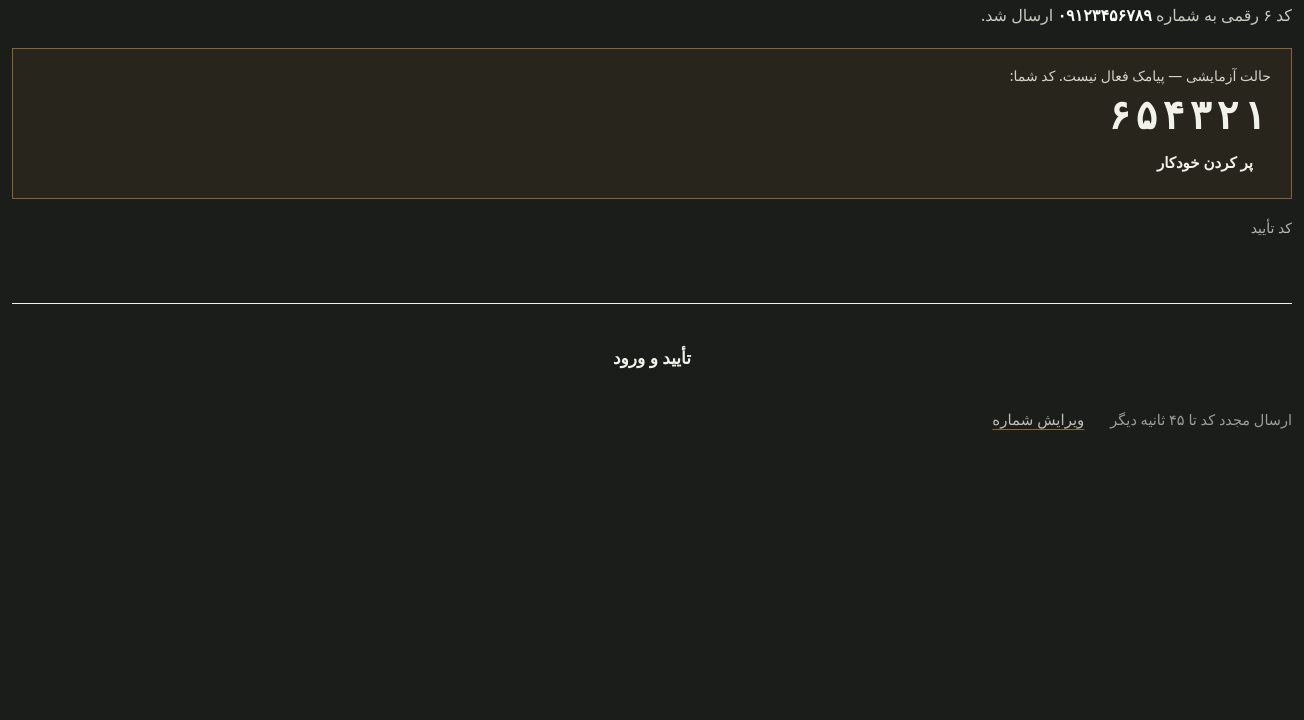
Test: OtpVerify › RTL — the digits of the code input stay LTR inside the box
This screenshot has width=1304, height=720.
Persian/Arabic digits typed into it are normalized to plain ASCII digits.
Type "۱۲۴۵۶۳" into the field named "کد تأیید ۶ رقمی" at (652,274), box [12,244,1292,304]
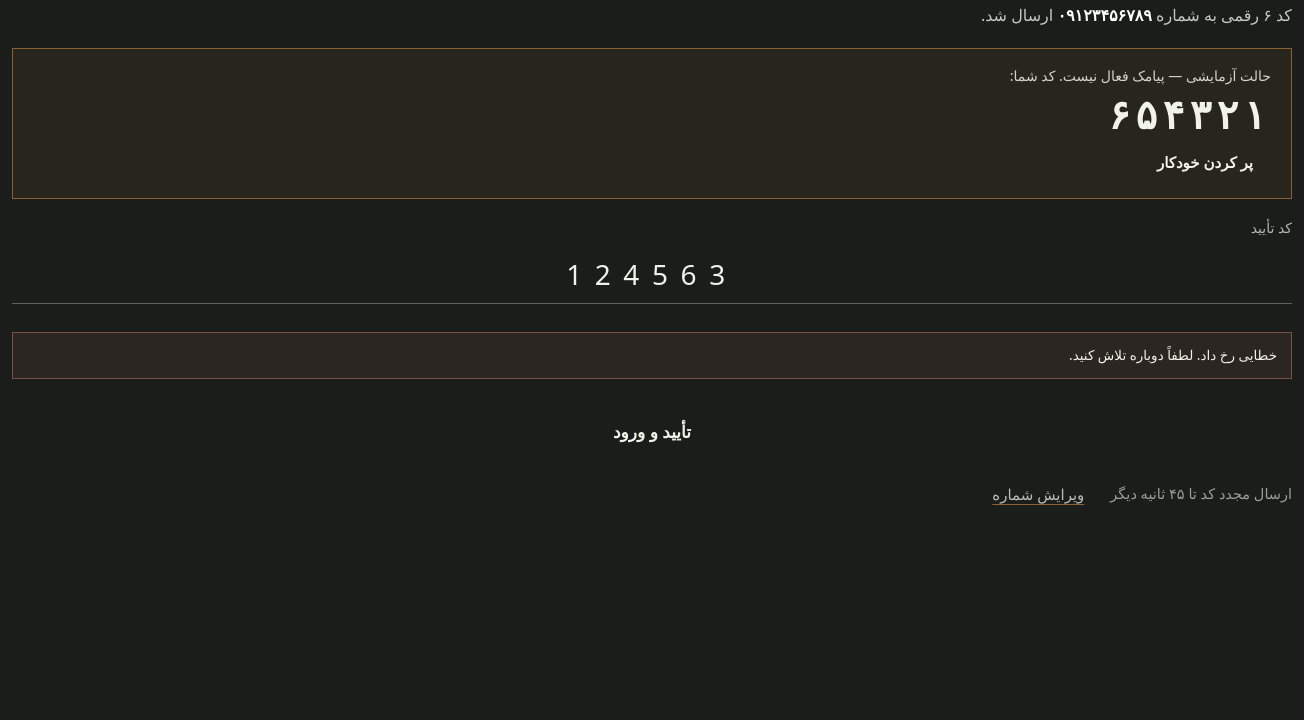
Expected: the field named "کد تأیید ۶ رقمی" holds "124563", [12,244,1292,304]
